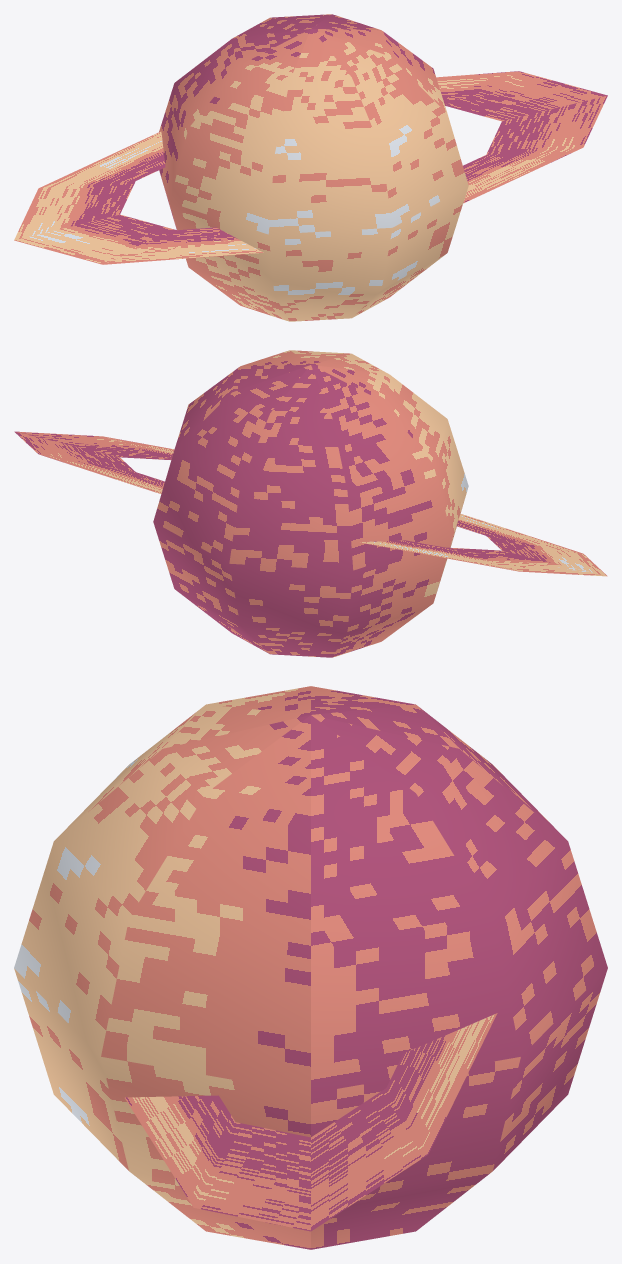
File: skyx.planet__ringed.glb
3 renders of one model, top to bottom at view 1: azimuth 30°, elevation 25°; view 2: azimuth 150°, elevation 25°; view 3: azimuth 270°, elevation 25°, orthographic. The views are drawn at different scales.
Parts seen in each view (by area): view 1: kit_shell_planet, kit_shell_ring; view 2: kit_shell_planet, kit_shell_ring; view 3: kit_shell_planet, kit_shell_ring.
Boxes of the visible parts, bbox=[...] form: kit_shell_planet: bbox=[159, 14, 468, 321]; kit_shell_ring: bbox=[14, 71, 607, 264]; kit_shell_planet: bbox=[153, 350, 468, 657]; kit_shell_ring: bbox=[14, 431, 607, 576]; kit_shell_planet: bbox=[14, 686, 607, 1249]; kit_shell_ring: bbox=[125, 1013, 497, 1231].
Bounding box in the file's own units: 143 × 63.92 × 68.
Materials: 1 (1 with a texture image).
